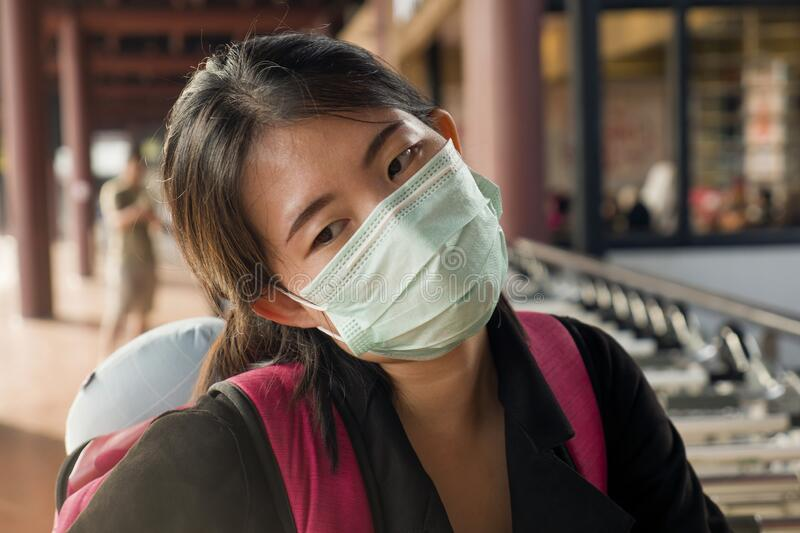surgical: (309, 142, 522, 358)
